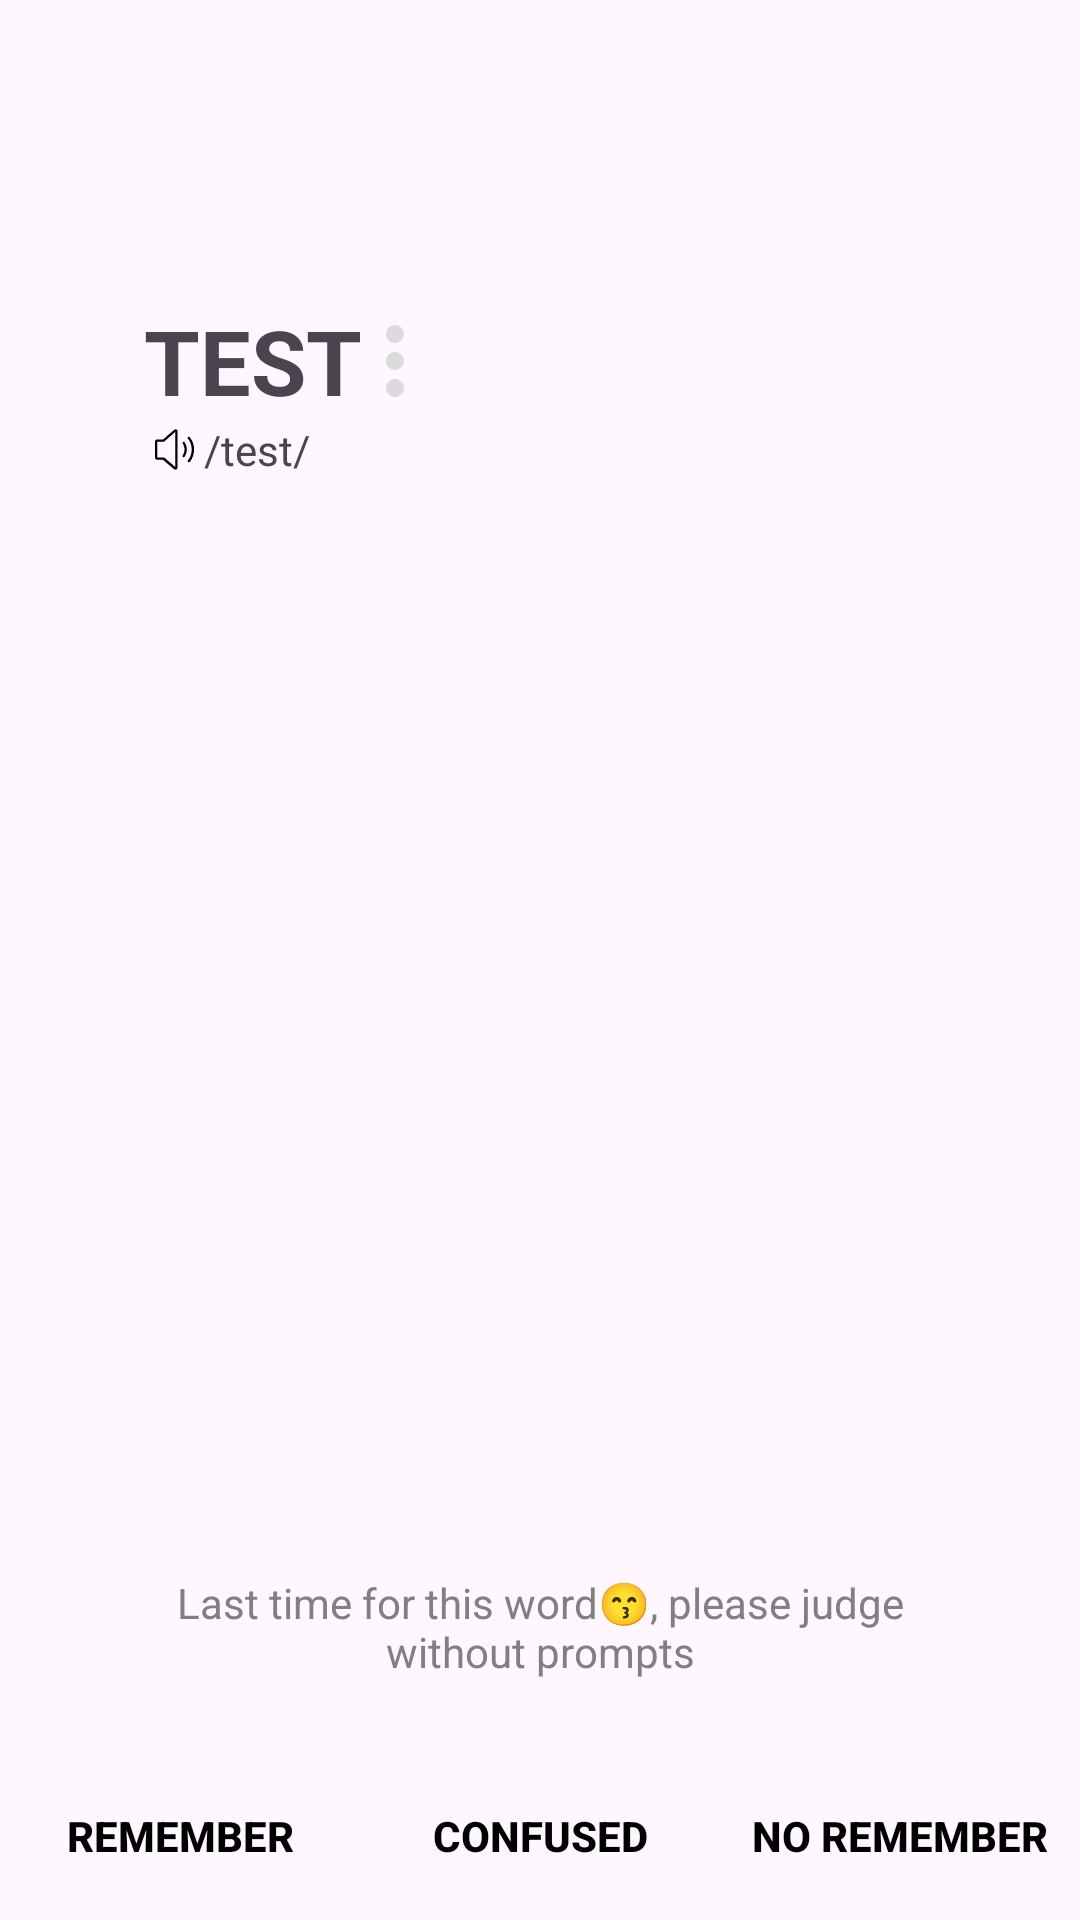

Screen size 1080px×1920px. Icon name, then its center in pixels as [x,y]:
play sound: [174,449]
